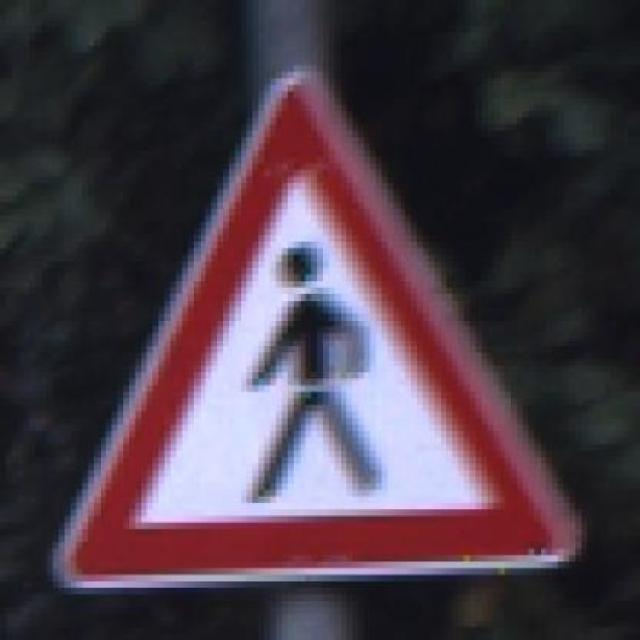Pedestrian Crossing: (52, 58, 588, 608)
